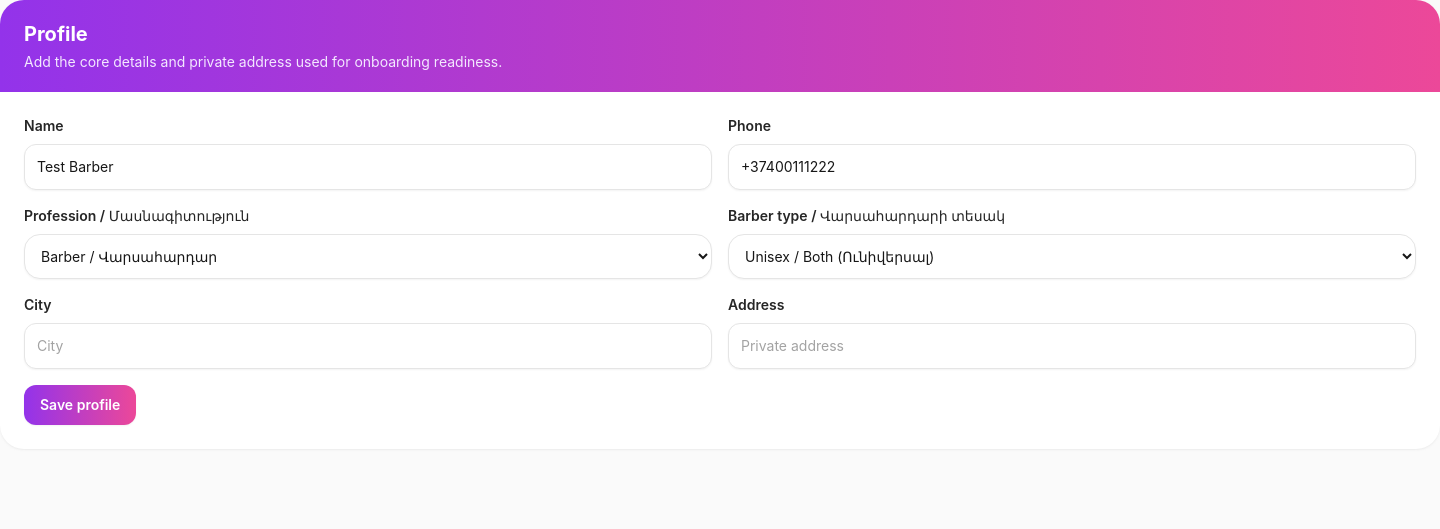
Test: ProfessionalBasicsStep onboarding validation › reports a missing city without saving
What coordinates should you click on to do the following:
click the button "Save profile"
I would click on:
 (80, 405)
Its box is [24,385,136,425].
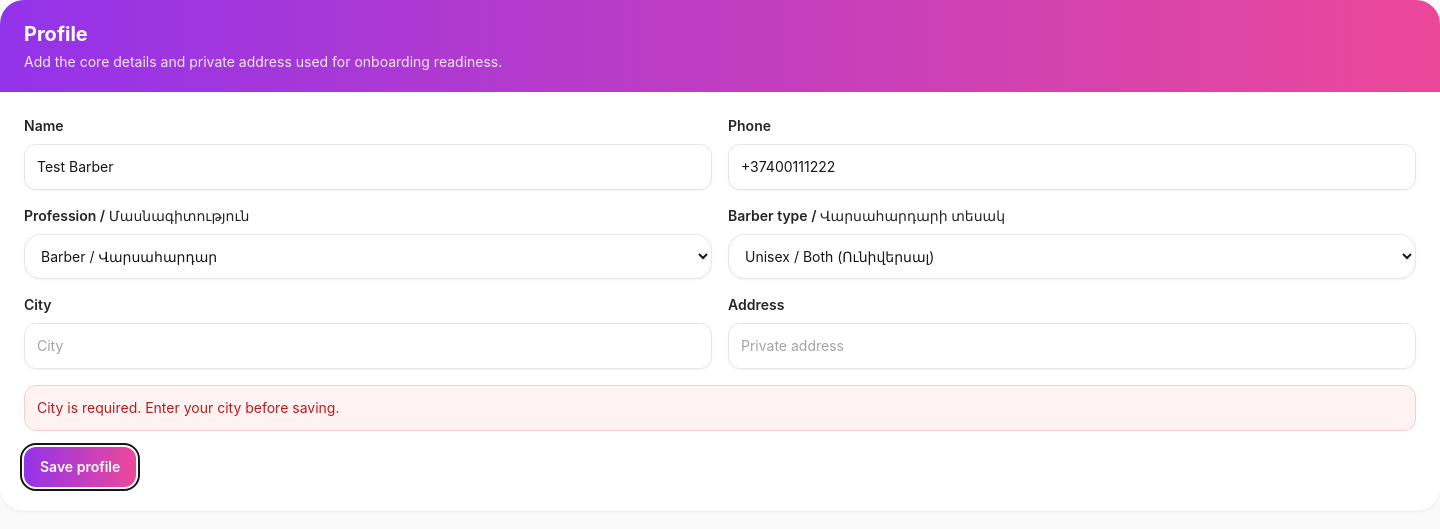
Now the text "City is required. Enter your city before saving." is shown, box [24,385,1416,431]
